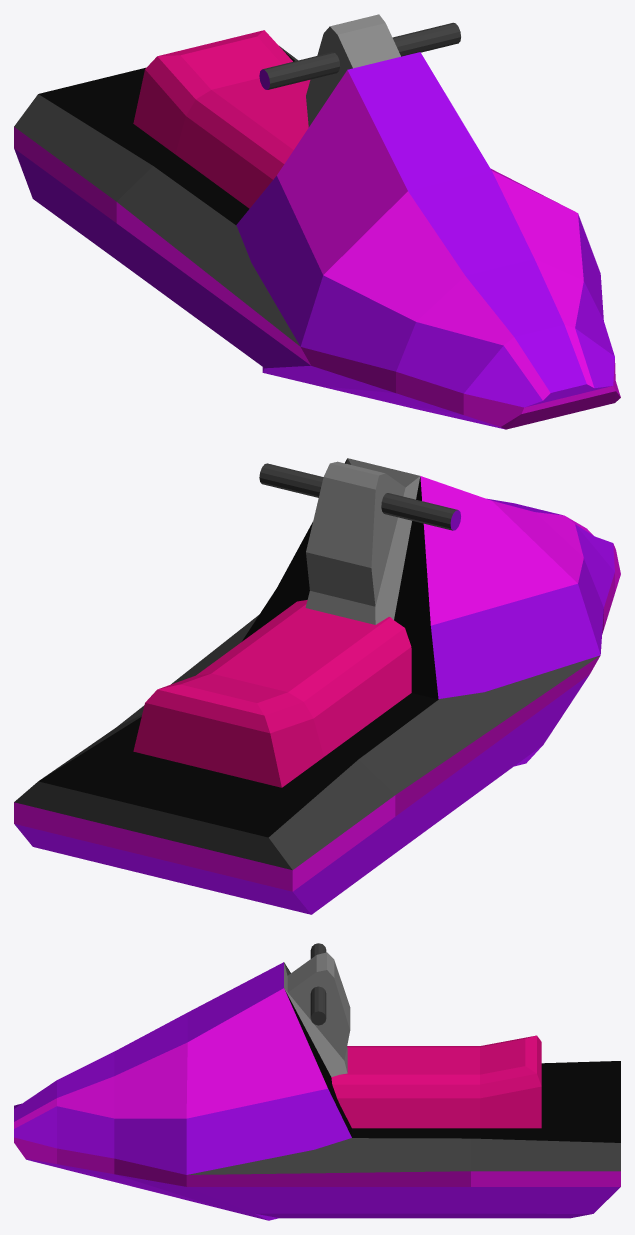
Rendered from moto-acuatica.fbx.
3 renders of one model, top to bottom at view 1: azimuth 30°, elevation 25°; view 2: azimuth 150°, elevation 25°; view 3: azimuth 270°, elevation 25°, orthographic. The views are drawn at different scales.
Parts seen in each view (by area): view 1: Cube.001; view 2: Cube.001; view 3: Cube.001.
Boxes of the visible parts, bbox=[...] form: Cube.001: bbox=[14, 14, 620, 429]; Cube.001: bbox=[14, 458, 620, 914]; Cube.001: bbox=[14, 943, 620, 1220].
Bounding box in the file's own units: 129 × 120 × 310.
